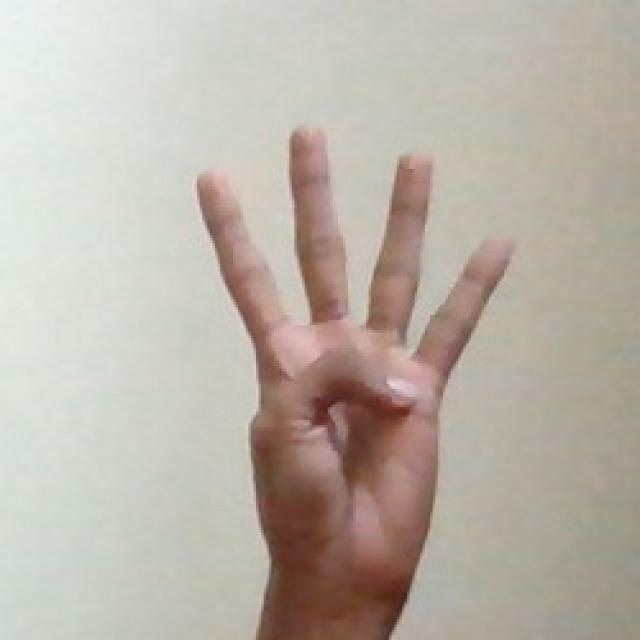Numeric-4: (204, 120, 513, 576)
